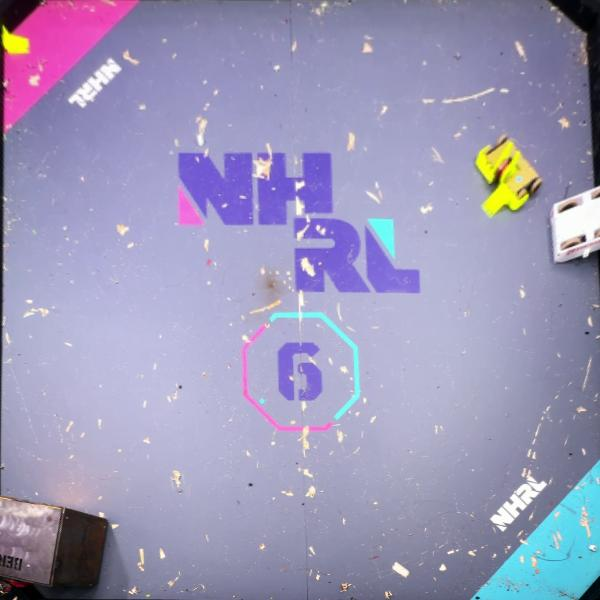housebot: (0, 495, 107, 600)
robot: (475, 134, 542, 218), (550, 184, 600, 265)
